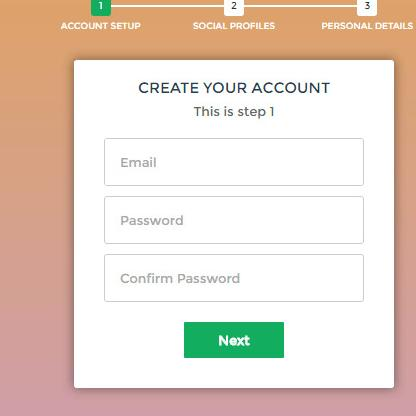button: (183, 319, 286, 359)
field: (103, 136, 369, 188), (102, 253, 366, 305), (102, 195, 367, 246)
